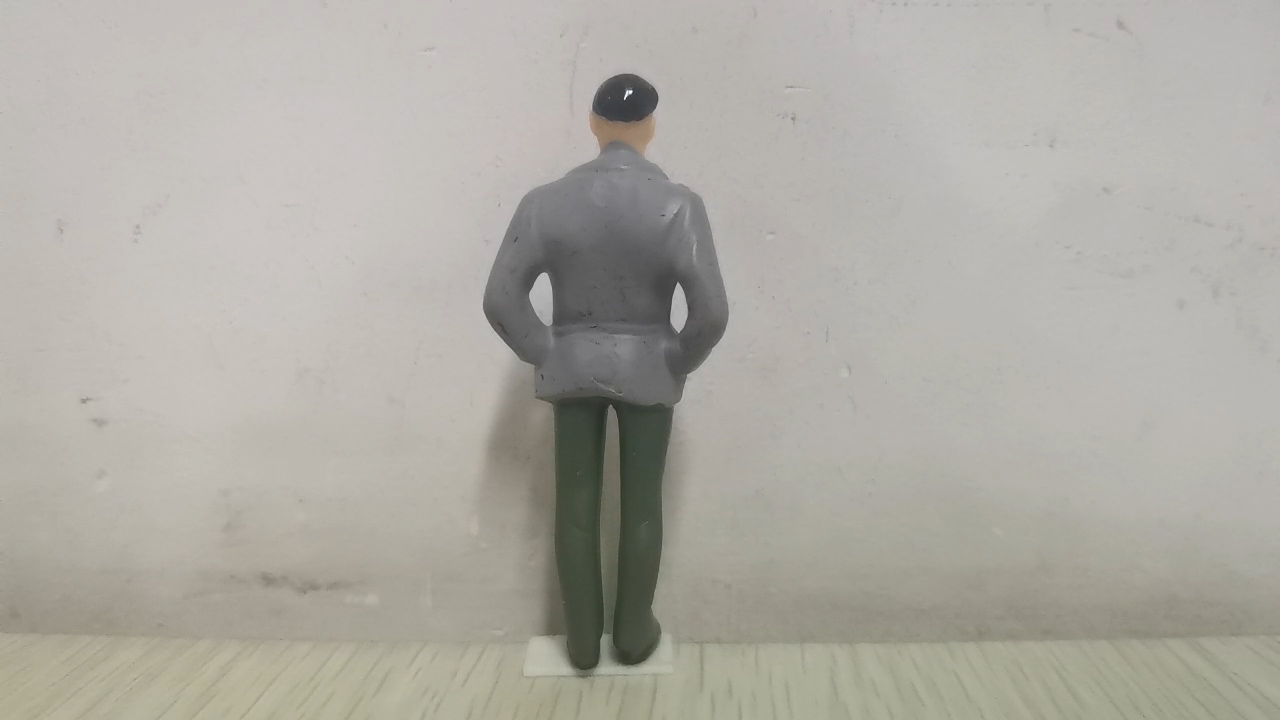person: (479, 72, 733, 672)
